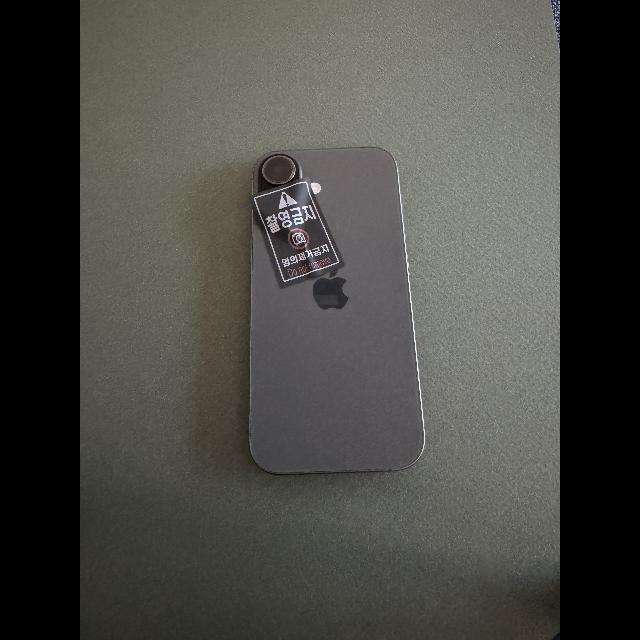lens: (265, 157, 294, 183)
phone: (249, 147, 425, 474)
sticker: (250, 176, 345, 289)
